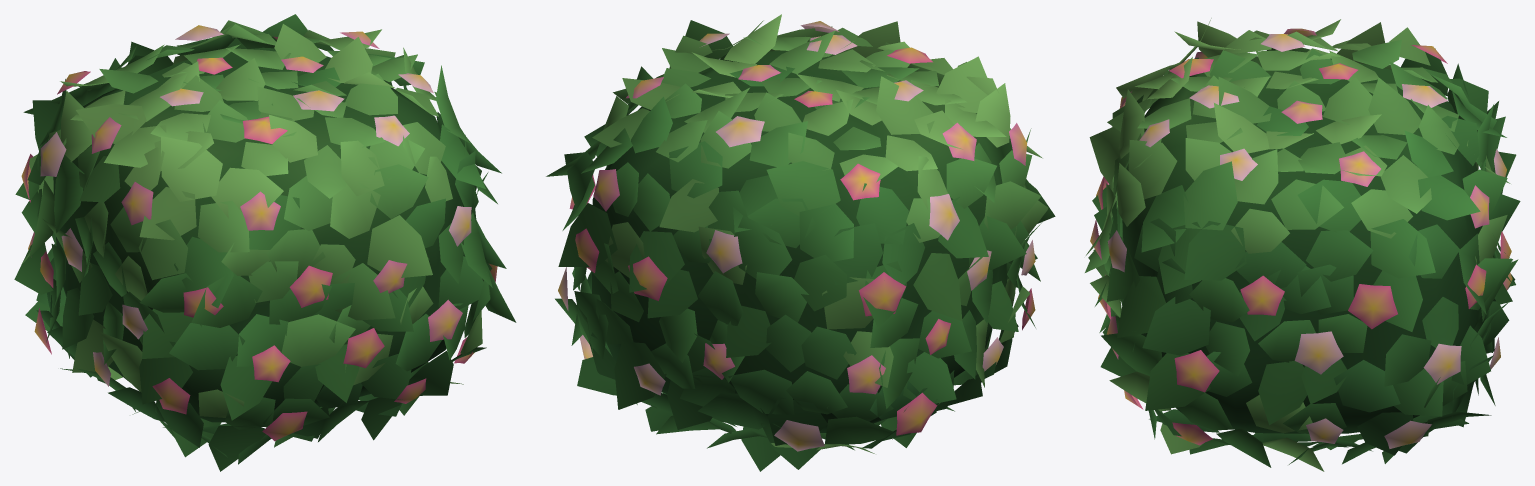
File: furn_od_hedge_flower.glb
3 renders of one model, left to right at view 1: azimuth 30°, elevation 25°; view 2: azimuth 150°, elevation 25°; view 3: azimuth 270°, elevation 25°, orthographic.
Visible parts, largest first — view 1: furn_od_hedge_flower_main; view 2: furn_od_hedge_flower_main; view 3: furn_od_hedge_flower_main.
Part boxes in pixels (x1,y1,x2,y2): furn_od_hedge_flower_main: [14, 14, 516, 471]; furn_od_hedge_flower_main: [546, 14, 1055, 471]; furn_od_hedge_flower_main: [1085, 18, 1520, 471].
Size of the model in its own units: 0.921 by 0.8065 by 0.8778.
